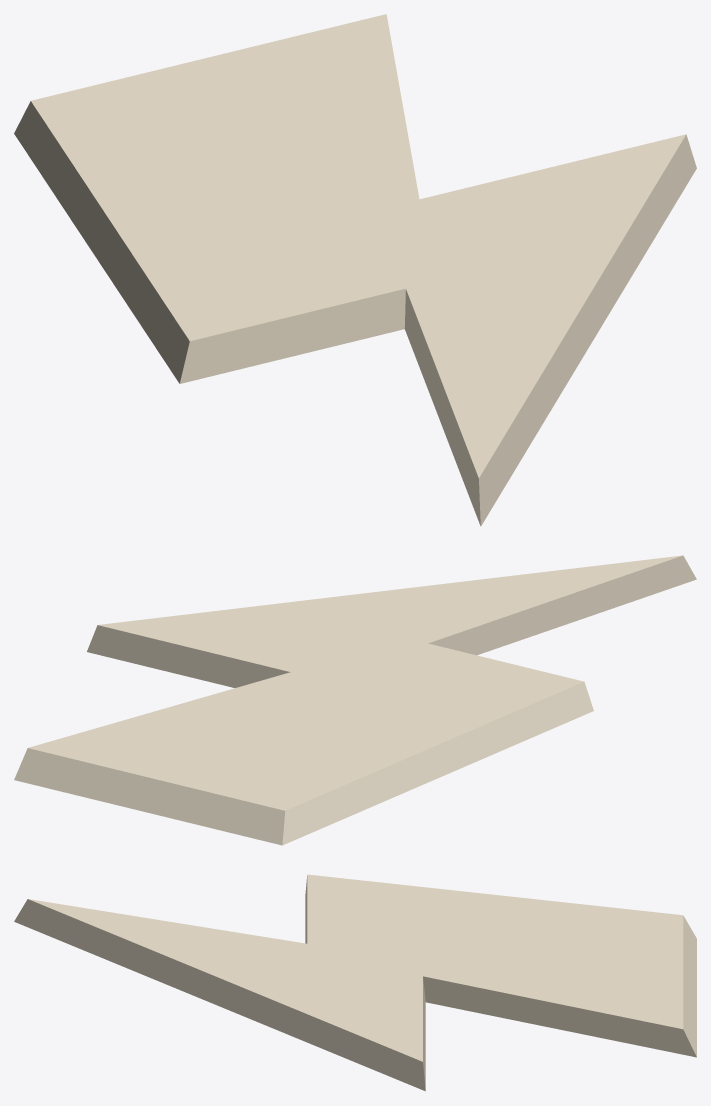
Rendered from SunnyLoop_Space_Symbol_Chaos_v1.glb.
3 views of the same model, one above another, from view 1: azimuth 30°, elevation 25°; view 2: azimuth 150°, elevation 25°; view 3: azimuth 270°, elevation 25° (orthographic). The views are drawn at different scales.
Parts seen in each view (by area): view 1: SunnyLoop_Space_Symbol_Chaos_v1; view 2: SunnyLoop_Space_Symbol_Chaos_v1; view 3: SunnyLoop_Space_Symbol_Chaos_v1.
Boxes of the visible parts, x1,y1,x2,y2 form: SunnyLoop_Space_Symbol_Chaos_v1: (14,14,696,526); SunnyLoop_Space_Symbol_Chaos_v1: (14,555,696,845); SunnyLoop_Space_Symbol_Chaos_v1: (14,874,696,1091).
Size of the model in its own units: 0.644 by 0.0392 by 0.952.
